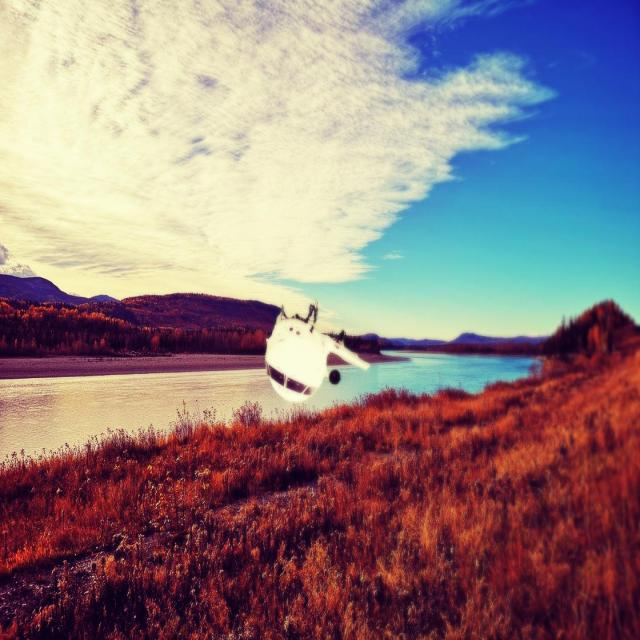airplane: (264, 300, 370, 403)
